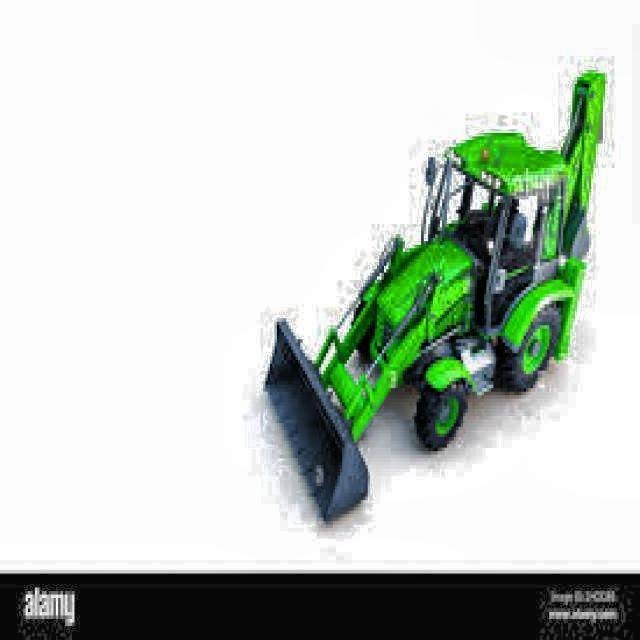bull_dozer/loader/grader: (260, 56, 610, 529)
person: (496, 198, 530, 252)
